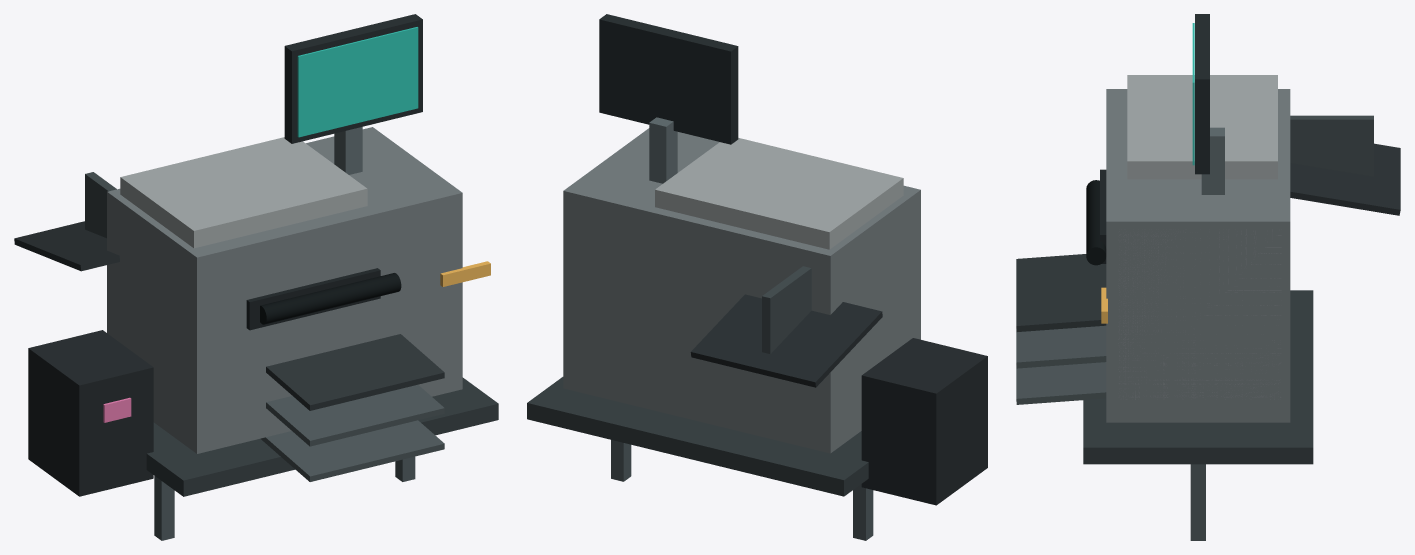
Rendered from orthographic-pilot.glb.
The picture shows the model from 3 angles, left to right: view 1: azimuth 30°, elevation 25°; view 2: azimuth 150°, elevation 25°; view 3: azimuth 270°, elevation 25°; orthographic projection. The views are drawn at different scales.
Visible parts, largest first — view 1: DS950_Main_Frame, DS950_Certified_UPS_Alternative, DS950_Upper_Housing, DS950_Control_Monitor_Display, DS950_Cart_Deck, DS950_Output_Tray_1, DS950_Output_Tray_3, DS950_Output_Tray_2, DS950_Control_Monitor_Housing, DS950_Input_Tray, DS950_Scanner_Throat, DS950_Input_Guide (+7 smaller); view 2: DS950_Main_Frame, DS950_Certified_UPS_Alternative, DS950_Upper_Housing, DS950_Control_Monitor_Housing, DS950_Cart_Deck, DS950_Input_Tray, DS950_Input_Guide, DS950_Display_Arm, DS950_Cart_Leg_1, DS950_Cart_Leg_2; view 3: DS950_Main_Frame, DS950_Cart_Deck, DS950_Upper_Housing, DS950_Output_Tray_1, DS950_Input_Tray, DS950_Input_Guide, DS950_Output_Tray_2, DS950_Output_Tray_3, DS950_Control_Monitor_Housing, DS950_Cart_Leg_2, DS950_Display_Arm, DS950_Right_Service_Housing (+2 smaller).
Part boxes in pixels (left/top/right/bottom): DS950_Main_Frame: left=107, top=127, right=462, bottom=453; DS950_Certified_UPS_Alternative: left=28, top=330, right=153, bottom=496; DS950_Upper_Housing: left=120, top=137, right=367, bottom=248; DS950_Control_Monitor_Display: left=297, top=27, right=418, bottom=137; DS950_Cart_Deck: left=146, top=377, right=498, bottom=496; DS950_Output_Tray_1: left=266, top=334, right=444, bottom=410; DS950_Output_Tray_3: left=260, top=420, right=444, bottom=481; DS950_Output_Tray_2: left=266, top=384, right=444, bottom=446; DS950_Control_Monitor_Housing: left=284, top=14, right=422, bottom=143; DS950_Input_Tray: left=14, top=221, right=119, bottom=271; DS950_Scanner_Throat: left=246, top=268, right=380, bottom=330; DS950_Input_Guide: left=85, top=172, right=116, bottom=238; DS950_Main_Frame: left=563, top=128, right=920, bottom=453; DS950_Certified_UPS_Alternative: left=861, top=338, right=987, bottom=505; DS950_Upper_Housing: left=655, top=138, right=903, bottom=249; DS950_Control_Monitor_Housing: left=599, top=14, right=738, bottom=144; DS950_Cart_Deck: left=527, top=377, right=868, bottom=496; DS950_Input_Tray: left=690, top=294, right=882, bottom=387; DS950_Input_Guide: left=762, top=266, right=811, bottom=354; DS950_Display_Arm: left=649, top=117, right=677, bottom=183; DS950_Cart_Leg_1: left=853, top=484, right=873, bottom=540; DS950_Cart_Leg_2: left=611, top=440, right=631, bottom=481; DS950_Main_Frame: left=1106, top=89, right=1290, bottom=422; DS950_Cart_Deck: left=1083, top=290, right=1313, bottom=464; DS950_Upper_Housing: left=1127, top=75, right=1277, bottom=179; DS950_Output_Tray_1: left=1016, top=254, right=1106, bottom=331; DS950_Input_Tray: left=1290, top=143, right=1400, bottom=215; DS950_Input_Guide: left=1290, top=115, right=1373, bottom=176; DS950_Output_Tray_2: left=1016, top=325, right=1106, bottom=368; DS950_Output_Tray_3: left=1016, top=362, right=1106, bottom=404; DS950_Control_Monitor_Housing: left=1195, top=14, right=1209, bottom=174; DS950_Cart_Leg_2: left=1190, top=464, right=1205, bottom=540; DS950_Display_Arm: left=1201, top=127, right=1224, bottom=194; DS950_Right_Service_Housing: left=1118, top=229, right=1281, bottom=399.
Bounding box in the file's own units: 5.41 × 6.15 × 4.6.
